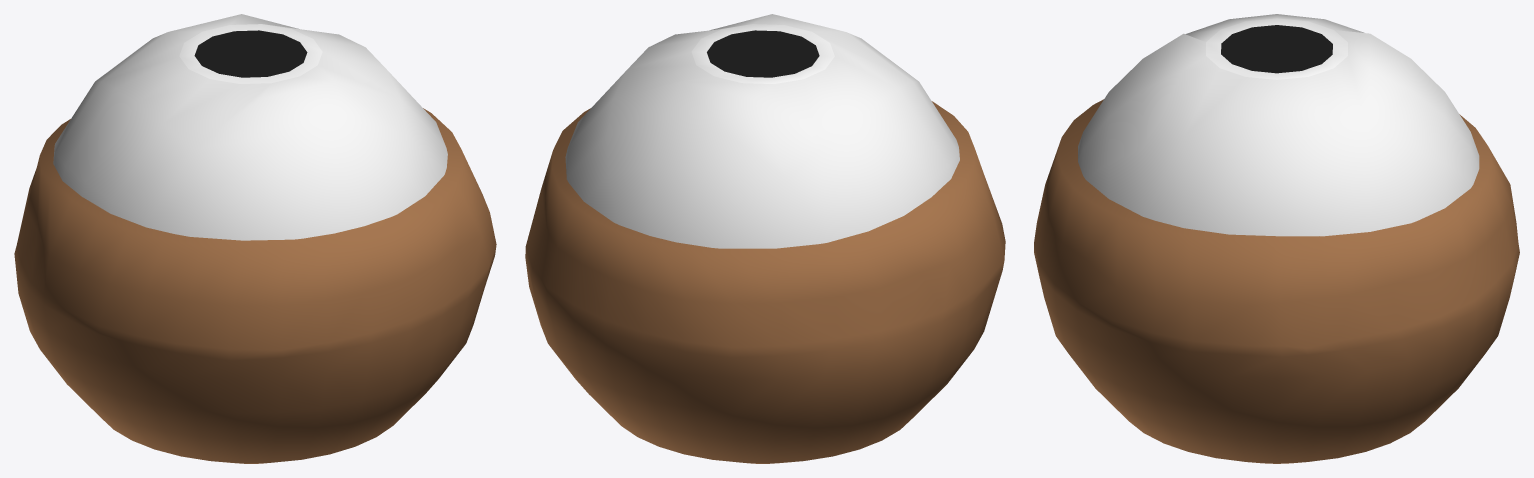
The model's file is Eyeful.fbx.
3 renders of one model, left to right at view 1: azimuth 30°, elevation 25°; view 2: azimuth 150°, elevation 25°; view 3: azimuth 270°, elevation 25°, orthographic.
Parts seen in each view (by area): view 1: Eyeful - maromv (SuperDing); view 2: Eyeful - maromv (SuperDing); view 3: Eyeful - maromv (SuperDing).
Boxes of the visible parts, <box> form: Eyeful - maromv (SuperDing): <box>14,14,496,463</box>; Eyeful - maromv (SuperDing): <box>525,14,1005,463</box>; Eyeful - maromv (SuperDing): <box>1034,14,1519,463</box>.
Bounding box in the file's own units: 16.98 × 14.8 × 16.9.
